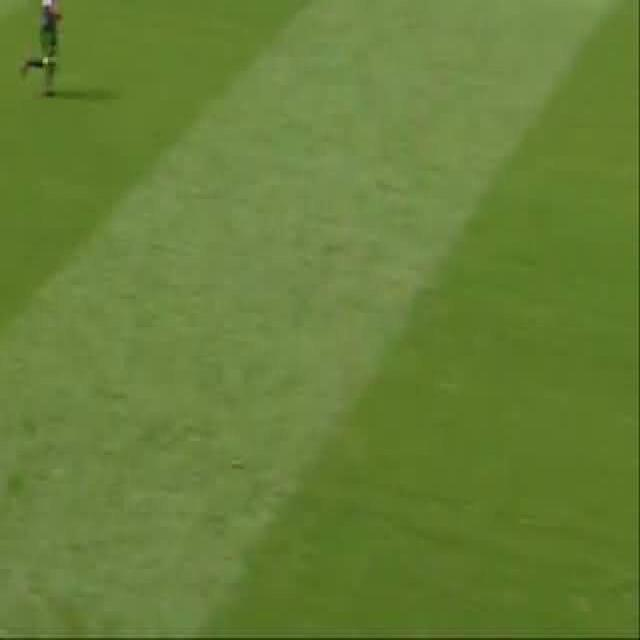player-white: (20, 0, 63, 94)
